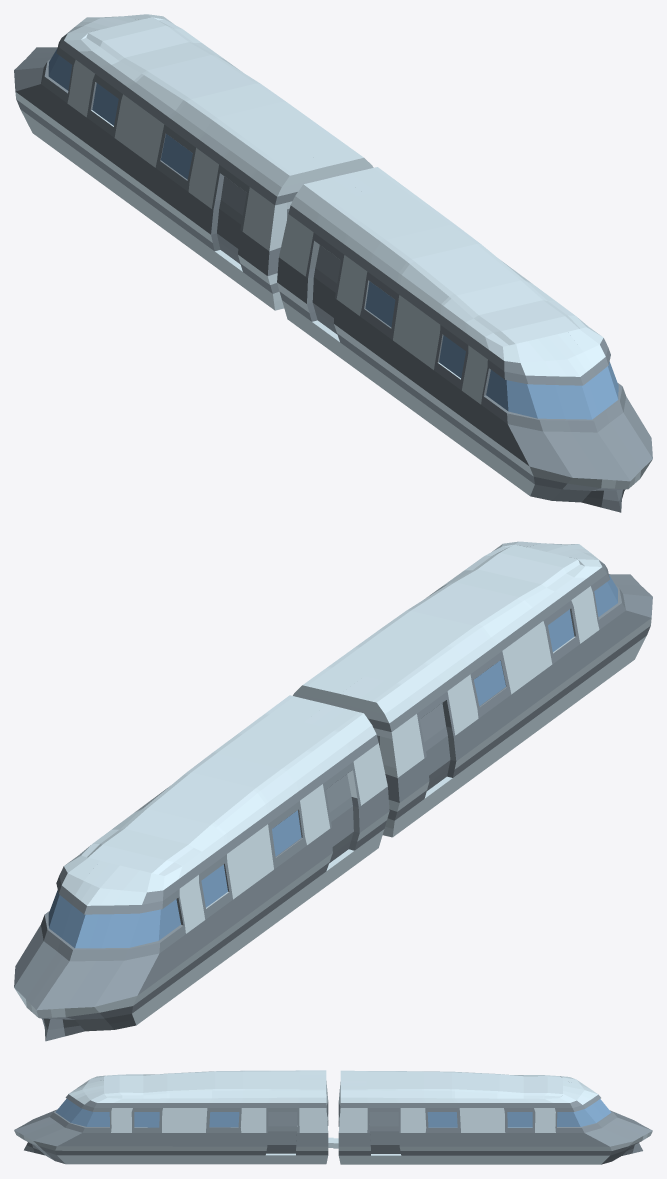
Rendered from train.glb.
3 views of the same model, one above another, from view 1: azimuth 30°, elevation 25°; view 2: azimuth 150°, elevation 25°; view 3: azimuth 270°, elevation 25° (orthographic). The views are drawn at different scales.
Visible parts, largest first — view 1: Plane.001, Plane; view 2: Plane, Plane.001; view 3: Plane.001, Plane.
Part boxes in pixels (<box>): Plane.001: <box>277,167,652,512</box>; Plane: <box>14,14,373,310</box>; Plane: <box>14,695,389,1041</box>; Plane.001: <box>293,541,652,837</box>; Plane.001: <box>14,1070,333,1164</box>; Plane: <box>333,1070,652,1164</box>.
Bounding box in the file's own units: 1.95 × 2.01 × 16.4.
